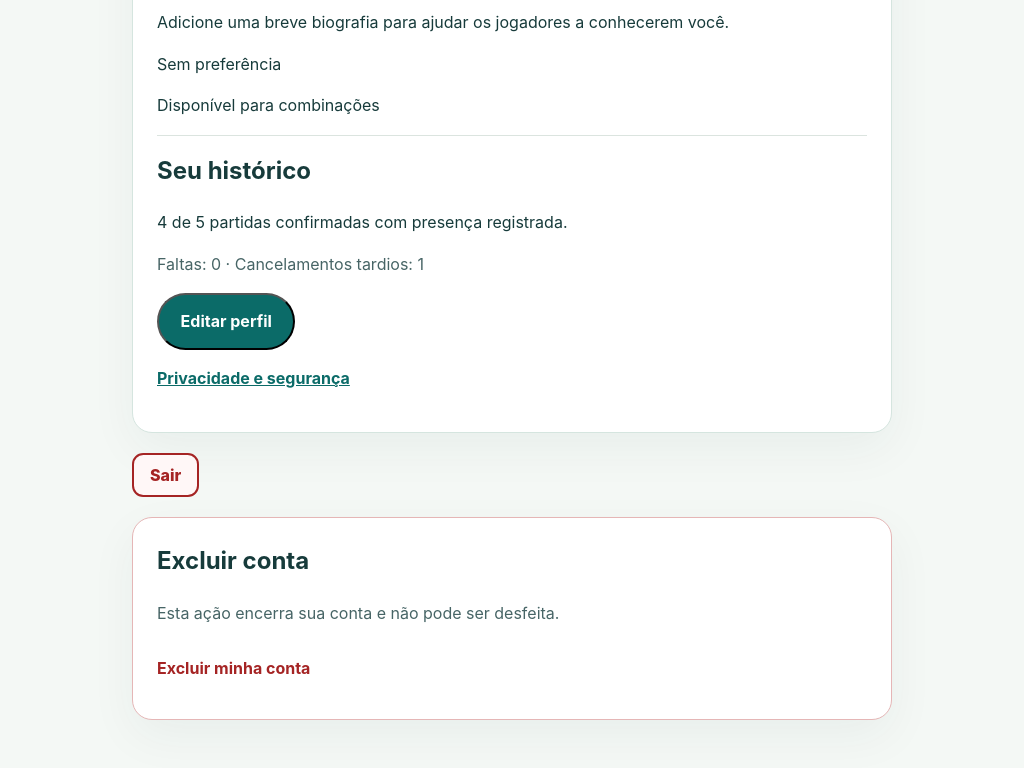
Test: profile editing › shows reliability history and supports account deletion
The width and height of the screenshot is (1024, 768).
(page scrolled)
Expected: the text "4 de 5 partidas confirmadas com presença registrada." is shown, left=157, top=212, right=568, bottom=232
Click the button "Excluir minha conta": point(234, 669) left=157, top=642, right=310, bottom=695
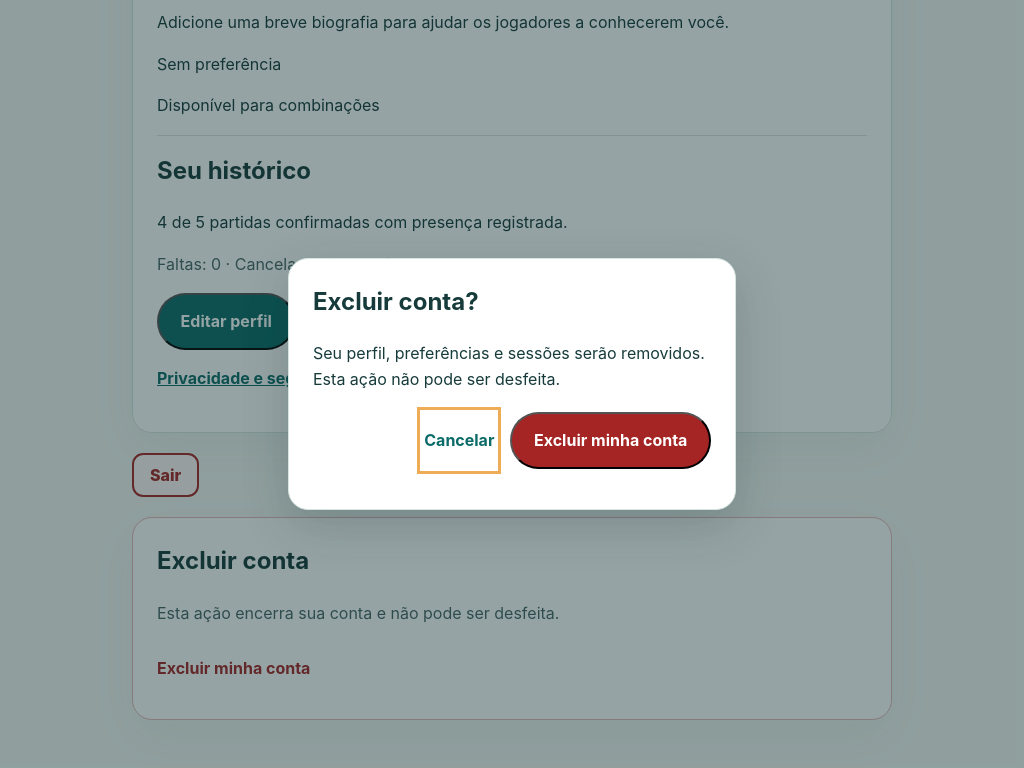
Click the button "Excluir minha conta": point(611, 441) left=510, top=412, right=711, bottom=469
(page scrolled)
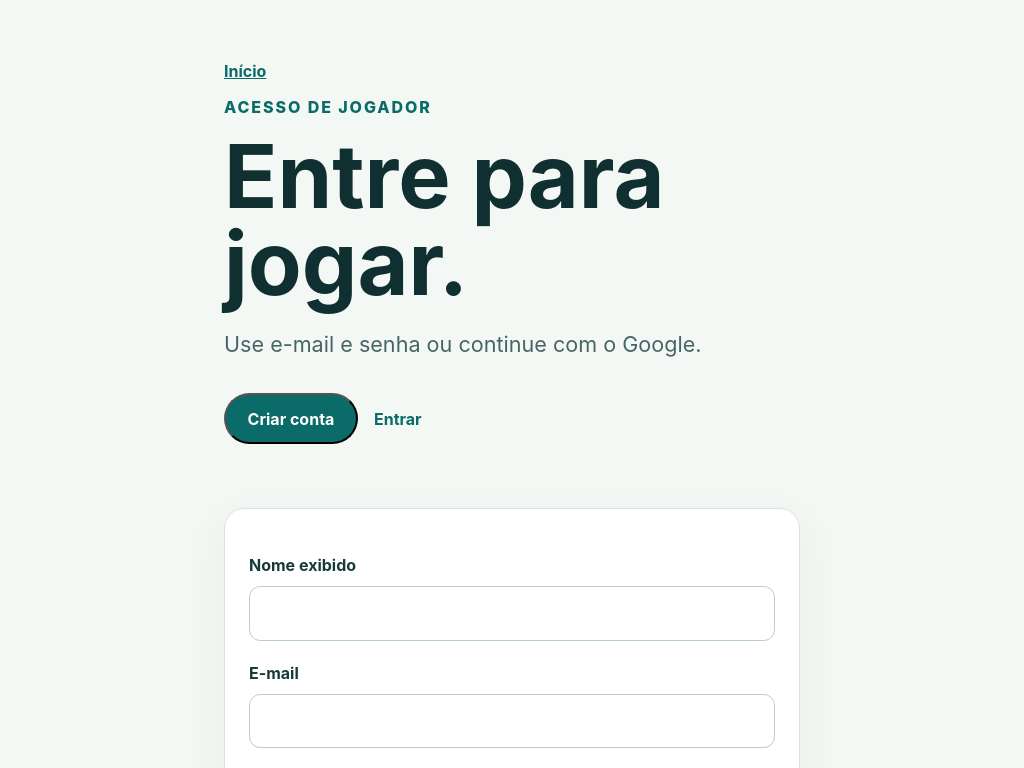
Expected: the heading "Entre para jogar." is shown, left=224, top=123, right=665, bottom=316
